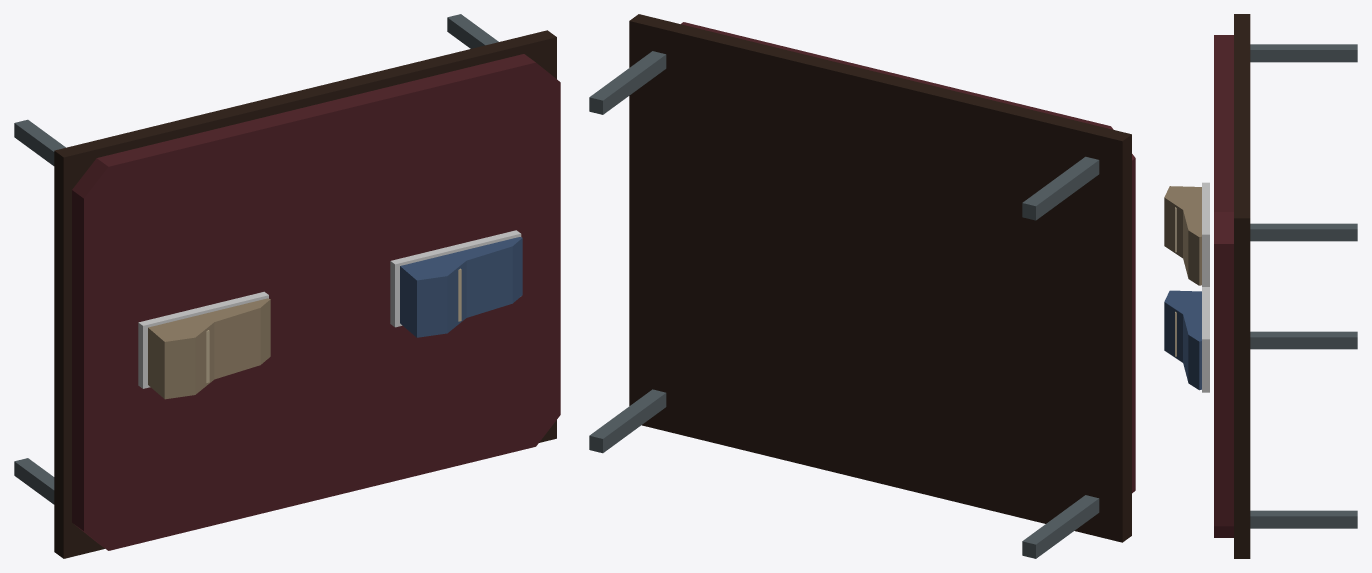
The model's file is SM_BSW_Department_ShoeBench_Short_A.obj.
3 views of the same model, side by side, from view 1: azimuth 30°, elevation 25°; view 2: azimuth 150°, elevation 25°; view 3: azimuth 270°, elevation 25° (orthographic). The views are drawn at different scales.
Parts seen in each view (by area): view 1: SM_BSW_Department_ShoeBench_Short_A; view 2: SM_BSW_Department_ShoeBench_Short_A; view 3: SM_BSW_Department_ShoeBench_Short_A.
Boxes of the visible parts, <box> form: SM_BSW_Department_ShoeBench_Short_A: <box>14,14,560,558</box>; SM_BSW_Department_ShoeBench_Short_A: <box>589,14,1135,558</box>; SM_BSW_Department_ShoeBench_Short_A: <box>1164,14,1357,558</box>.
Size of the model in its own units: 180 by 140 by 72.
